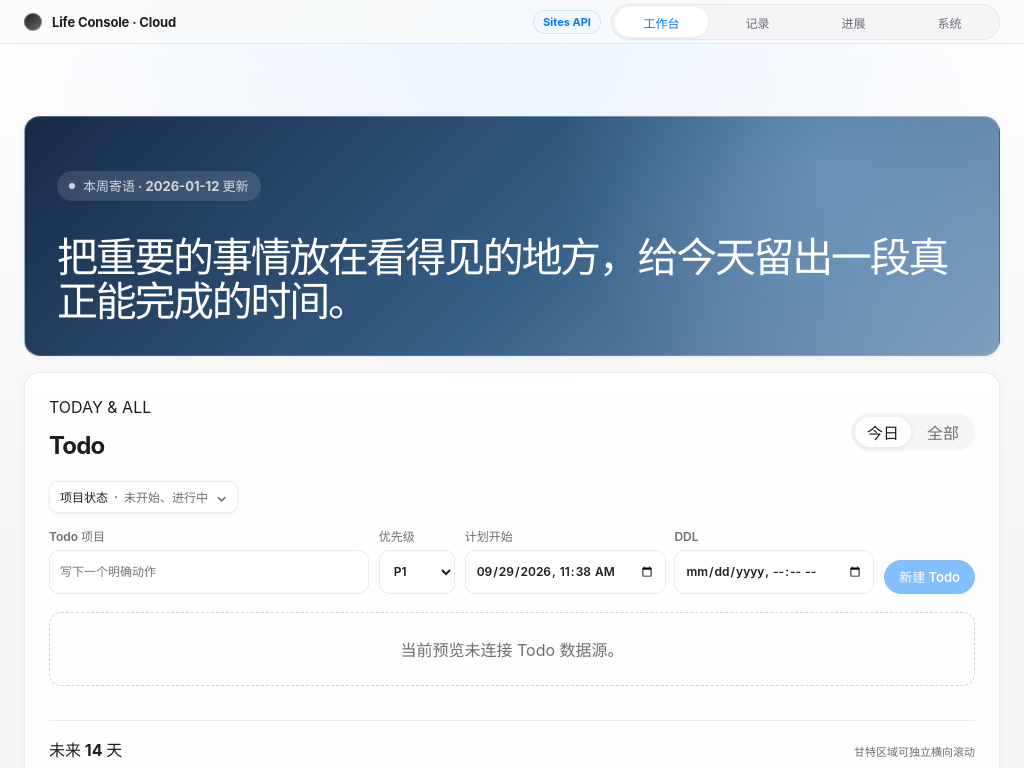
Test: Life Console Sites mode › shows cloud identity and cloud save target without changing navigation
This screenshot has width=1024, height=768.
Expected: the text "Life Console · Cloud" is shown, [52,14,176,30]
Expected: the text "Sites API" is shown, [533,10,601,34]
Click the button "记录" at (757, 22), box [711,7,804,37]
(page scrolled)
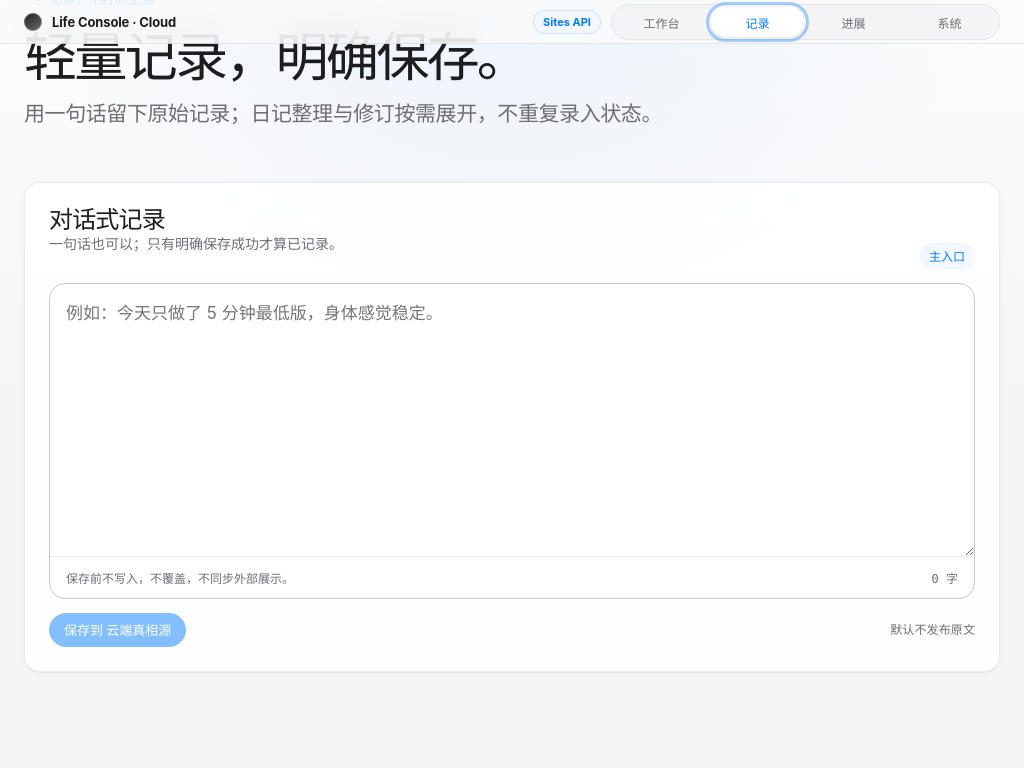
Expected: the button "保存到 云端真相源" is shown, [49,613,186,647]
